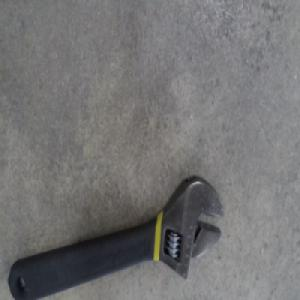AdjustableWrench: (9, 175, 226, 296)
